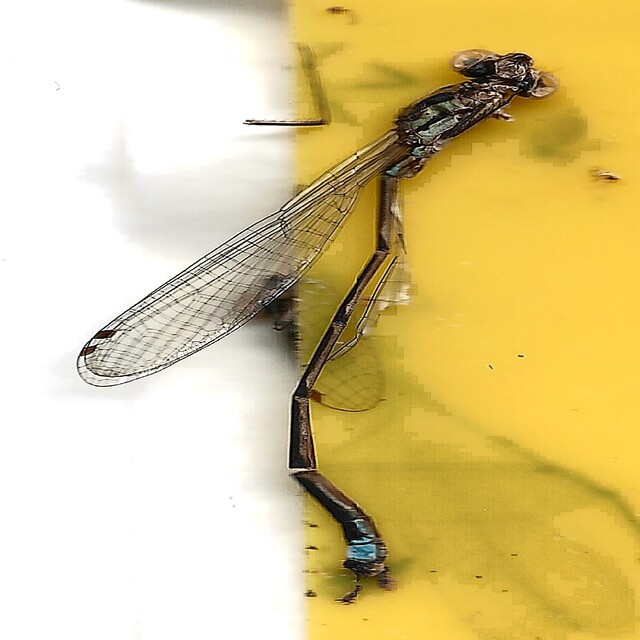Odonata: (77, 46, 563, 594)
